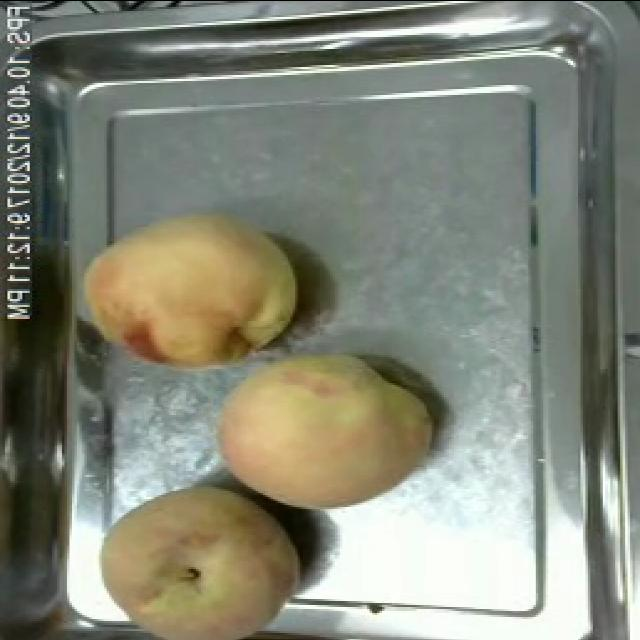Fruit: (72, 202, 305, 384), (206, 338, 439, 520), (90, 474, 308, 640)
